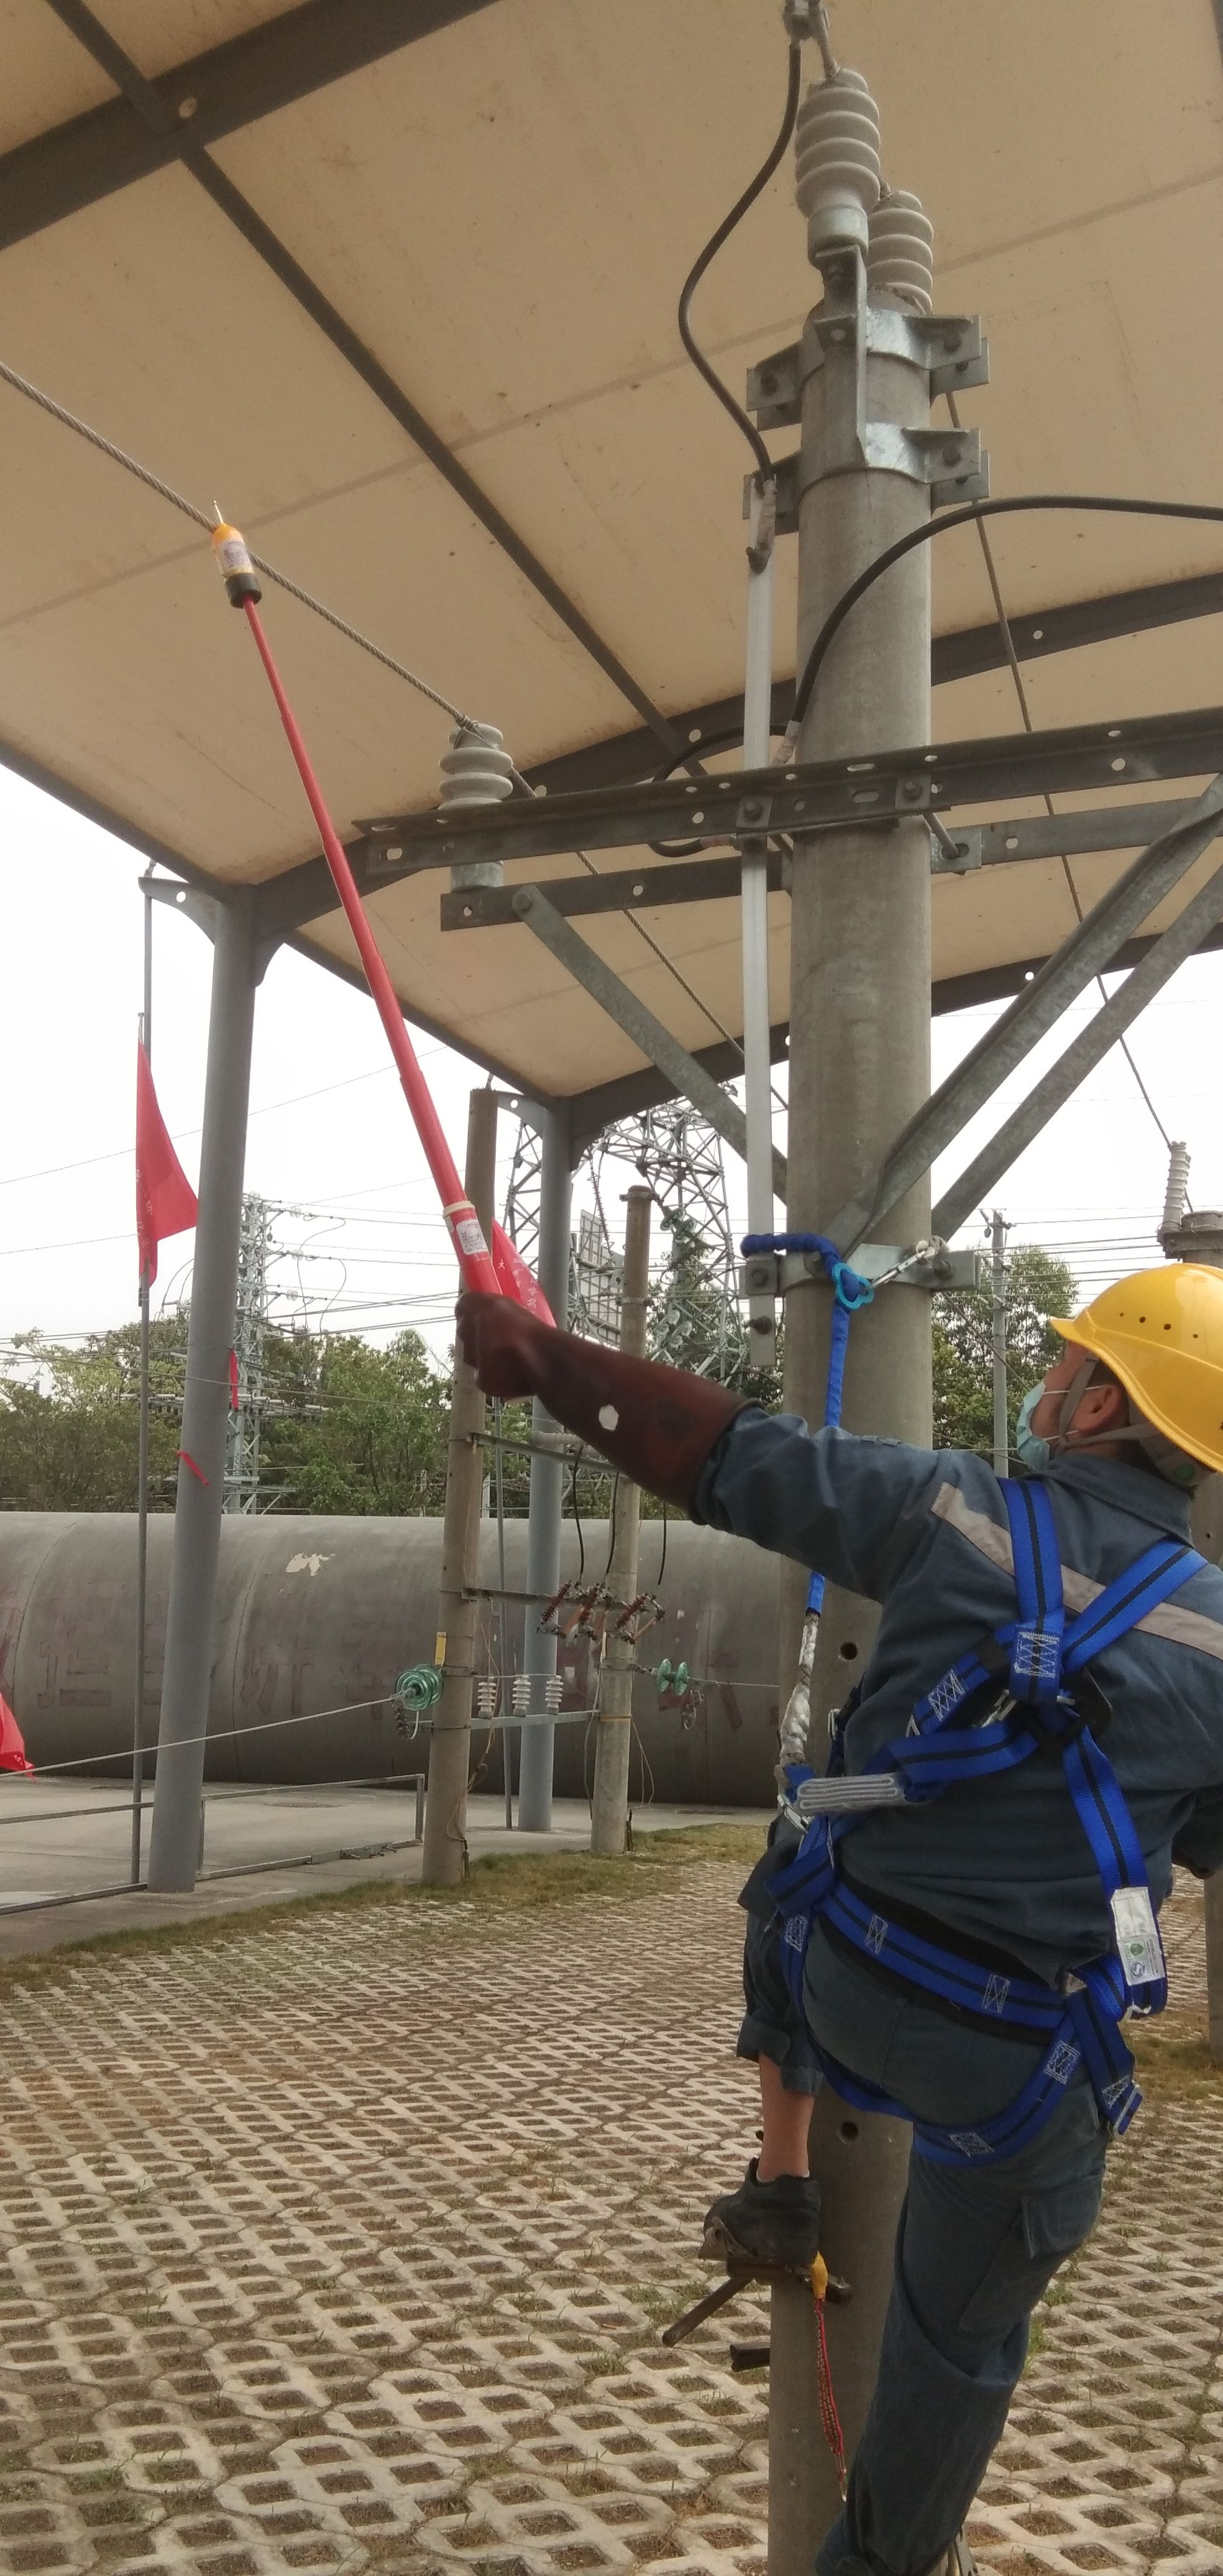downsuit: (734, 1955, 1121, 2576)
upsuit: (722, 1428, 1223, 1939)
